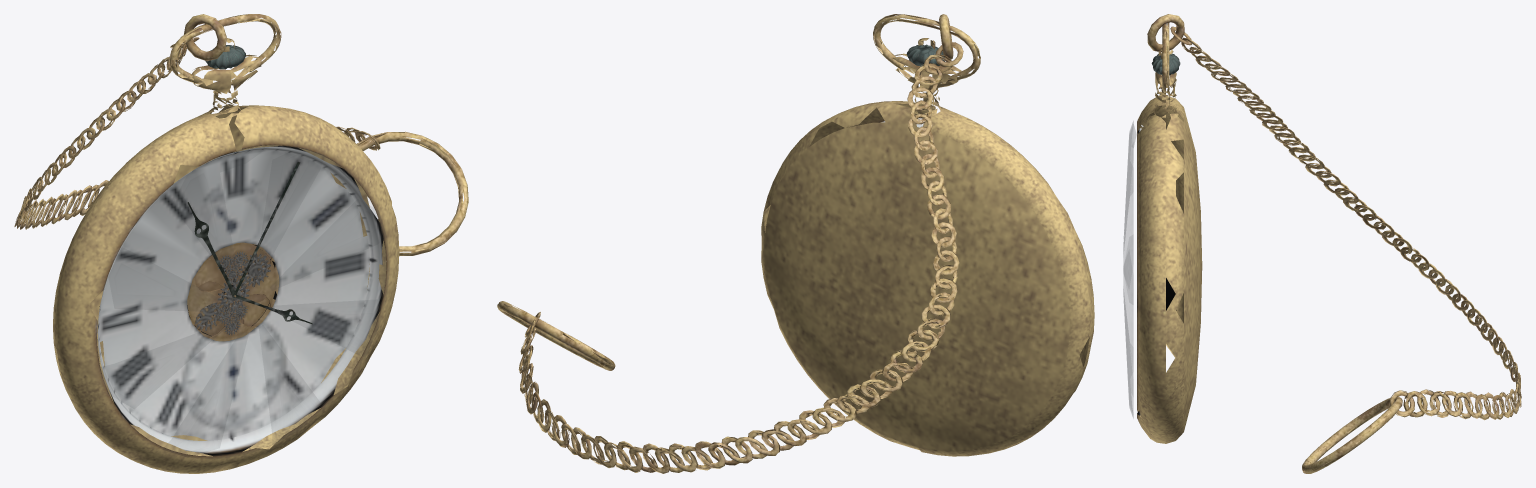
File: montre-du-capitaine.glb
3 views of the same model, side by side, from view 1: azimuth 30°, elevation 25°; view 2: azimuth 150°, elevation 25°; view 3: azimuth 270°, elevation 25° (orthographic). The views are drawn at different scales.
Parts seen in each view (by area): view 1: Body, Glass, Chain, plastic, Gear7, Button, Gear, arrow2, Gear8; view 2: Body, Chain; view 3: Body, Chain, Glass.
Boxes of the visible parts, left/top/right/bottom form: Body: left=53, top=38, right=399, bottom=473; Glass: left=100, top=145, right=386, bottom=456; Chain: left=14, top=14, right=468, bottom=255; plastic: left=187, top=242, right=279, bottom=341; Gear7: left=239, top=253, right=270, bottom=287; Button: left=205, top=45, right=245, bottom=69; Gear: left=217, top=278, right=249, bottom=311; arrow2: left=187, top=202, right=236, bottom=298; Gear8: left=195, top=302, right=222, bottom=330; Body: left=761, top=38, right=1094, bottom=456; Chain: left=497, top=14, right=980, bottom=473; Body: left=1137, top=47, right=1202, bottom=443; Chain: left=1147, top=14, right=1521, bottom=473; Glass: left=1123, top=121, right=1135, bottom=417.
Size of the model in its own units: 0.1313 by 0.1126 by 0.1003.
Materials: 6 (6 with a texture image).
